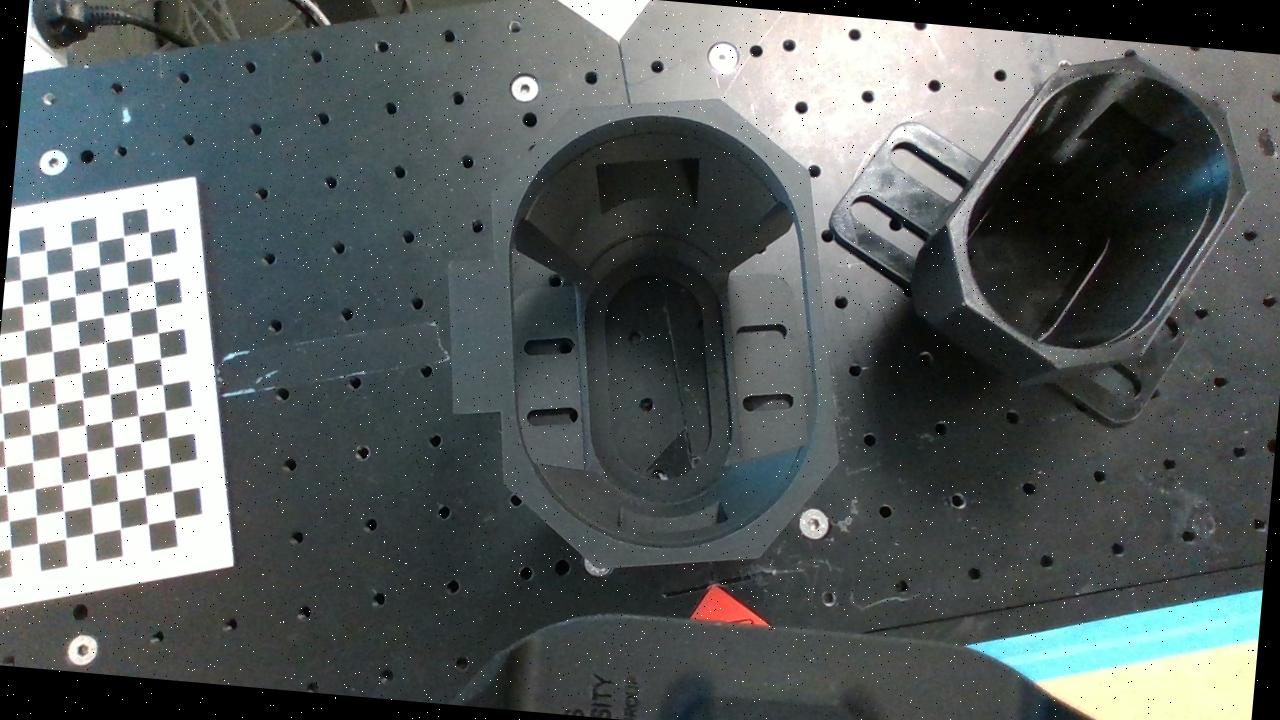big_interface: (459, 80, 872, 590)
small_interface: (934, 38, 1259, 384)
